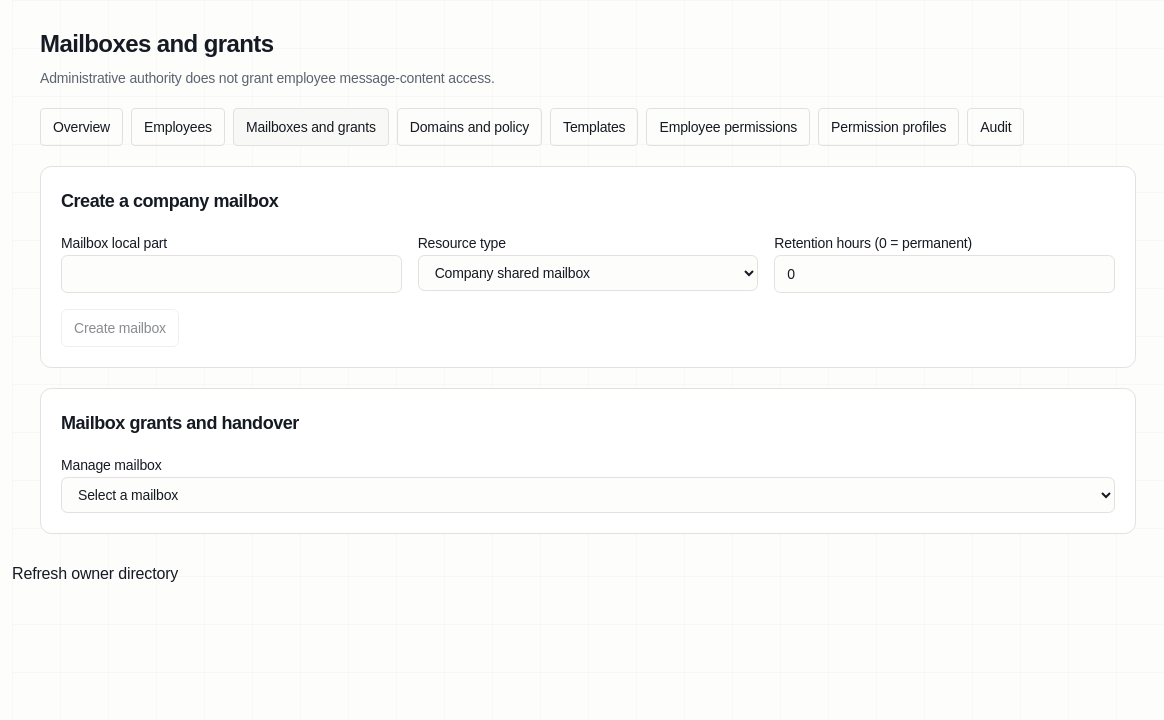
Scenario: mailbox creation request and draft ownership › keeps an active creation and its busy state across token-only rotation
The width and height of the screenshot is (1164, 720).
Type "requested-local" into the field labelled "Mailbox local part" at [231, 274], box [61,255,402,293]
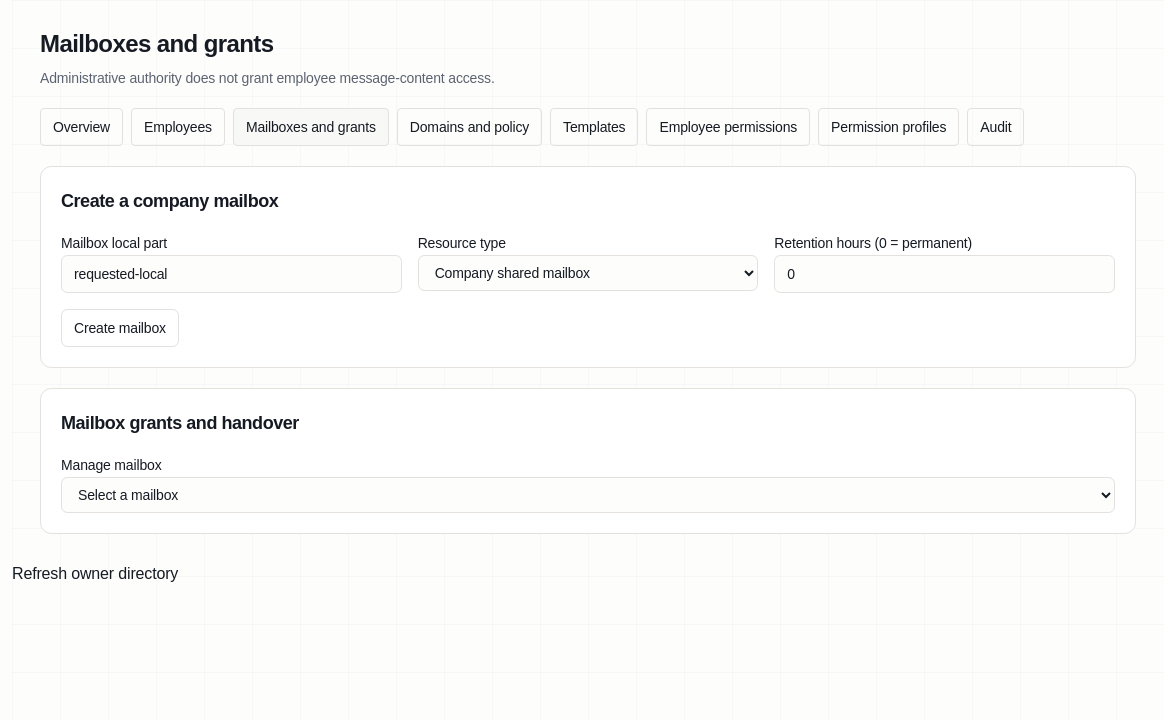
Replace the text in the number field labelled "Retention hours (0 = permanent)" with "24" at [945, 274], box [774,255,1115,293]
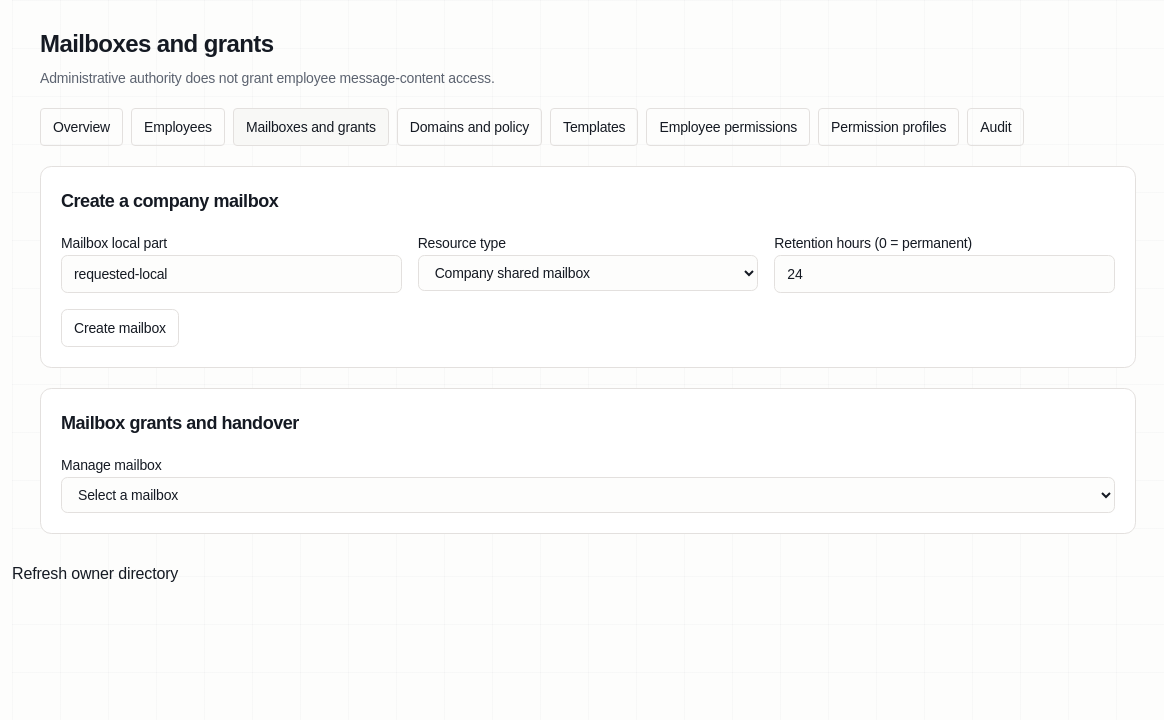
Click the button "Create mailbox" at [120, 328], box [61,309,179,347]
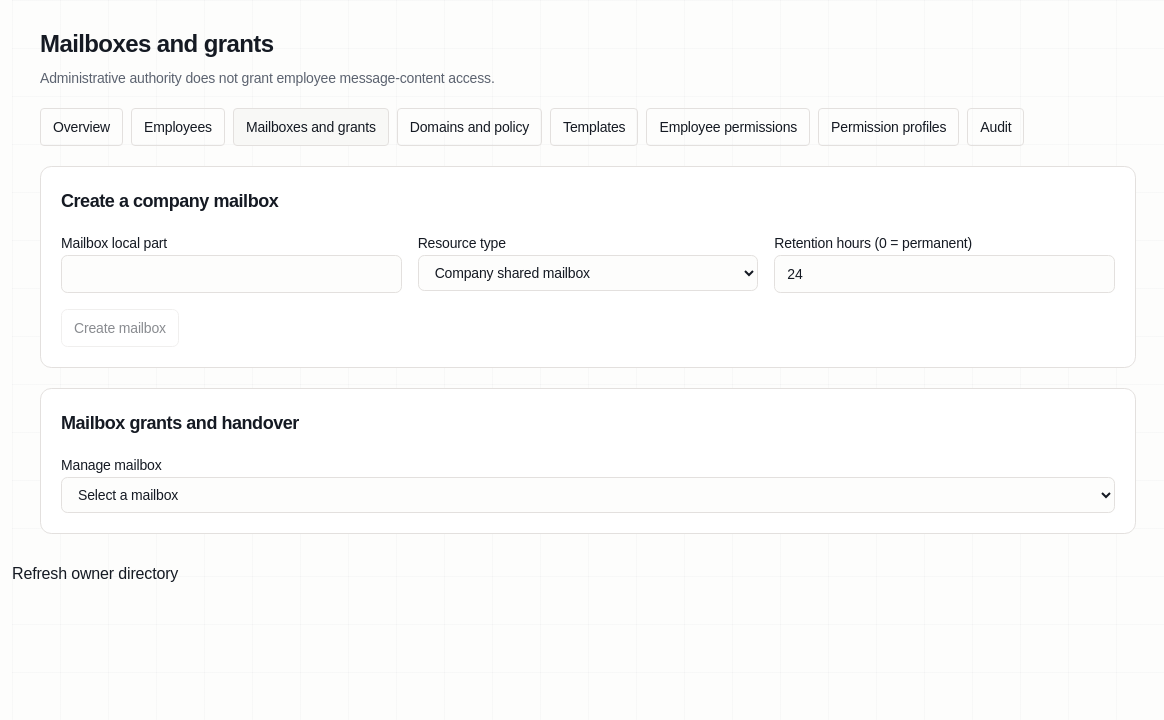
Check: the button "Create mailbox" is disabled, box [61,309,179,347]
Check: the field labelled "Mailbox local part" is empty, box [61,255,402,293]
